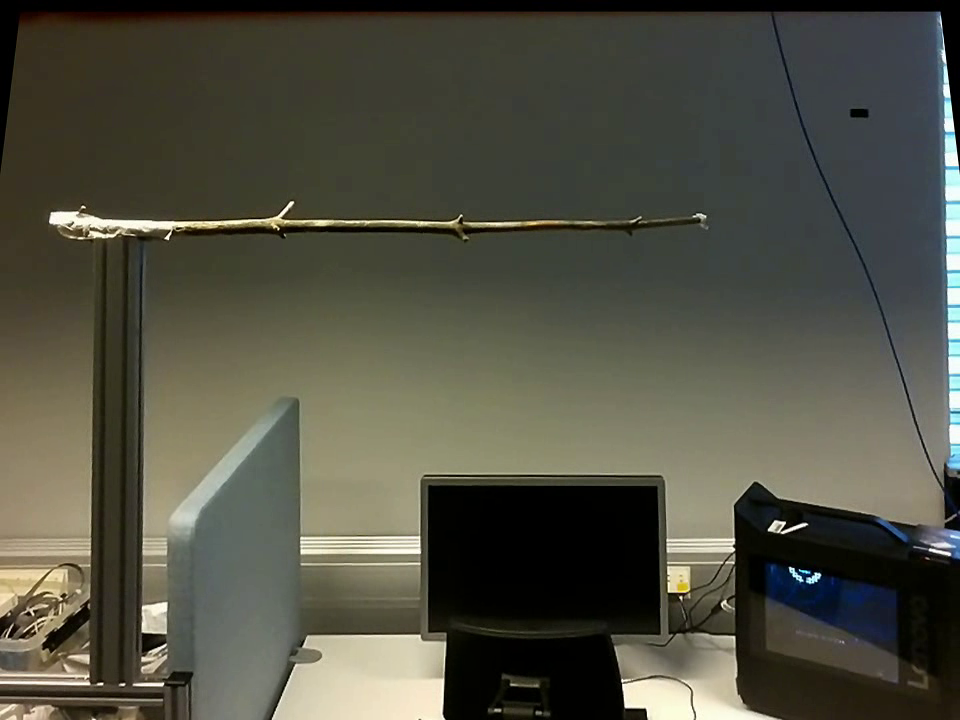aluminum_frame: (82, 236, 144, 682), (0, 665, 168, 709), (159, 674, 196, 718)
branch: (178, 194, 688, 248)
